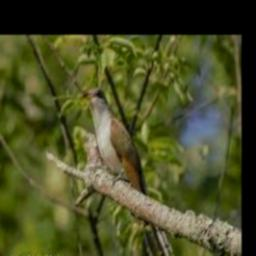Cuckoo: (83, 88, 173, 256)
